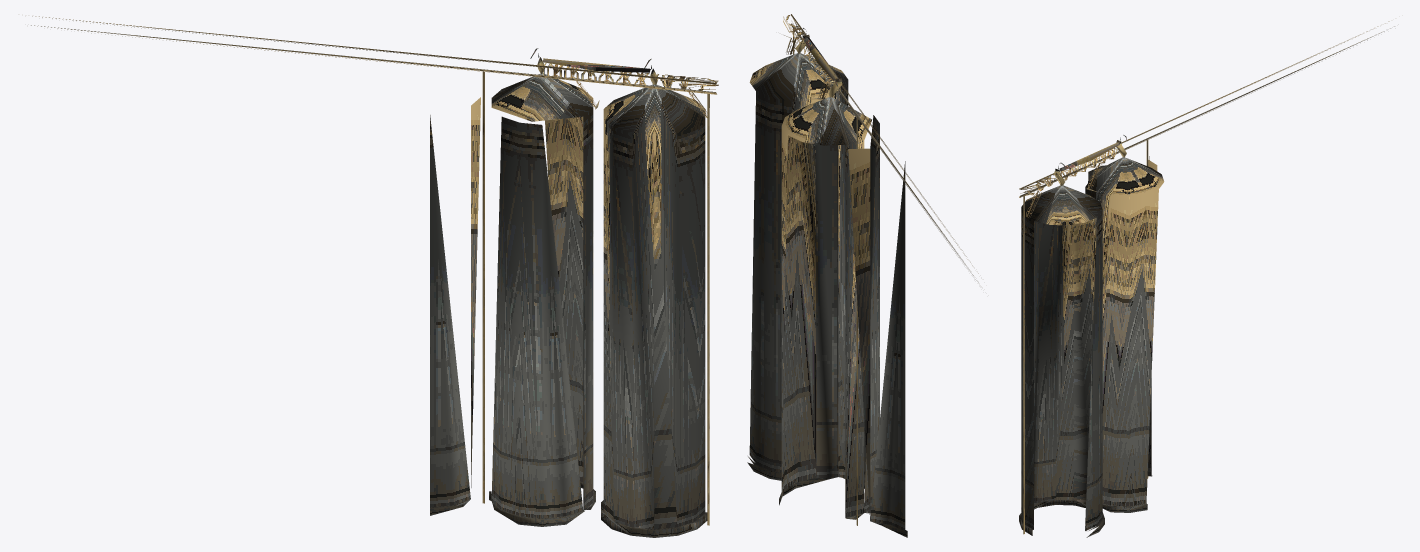
Rendered from world_camden_11_1.gltf.
The picture shows the model from 3 angles, left to right: view 1: azimuth 30°, elevation 25°; view 2: azimuth 150°, elevation 25°; view 3: azimuth 270°, elevation 25°; orthographic projection. The views are drawn at different scales.
Bounding box in the file's own units: 118 × 111 × 108.
Materials: 2 (2 with a texture image).
